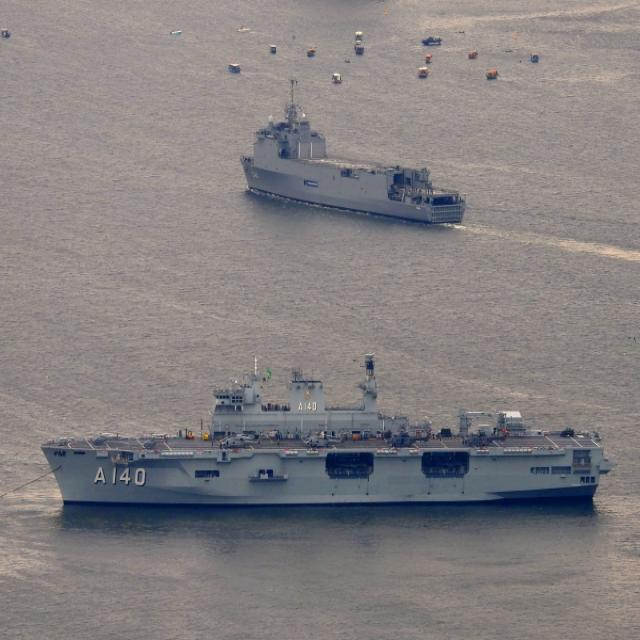Portanaves: (37, 343, 623, 521)
